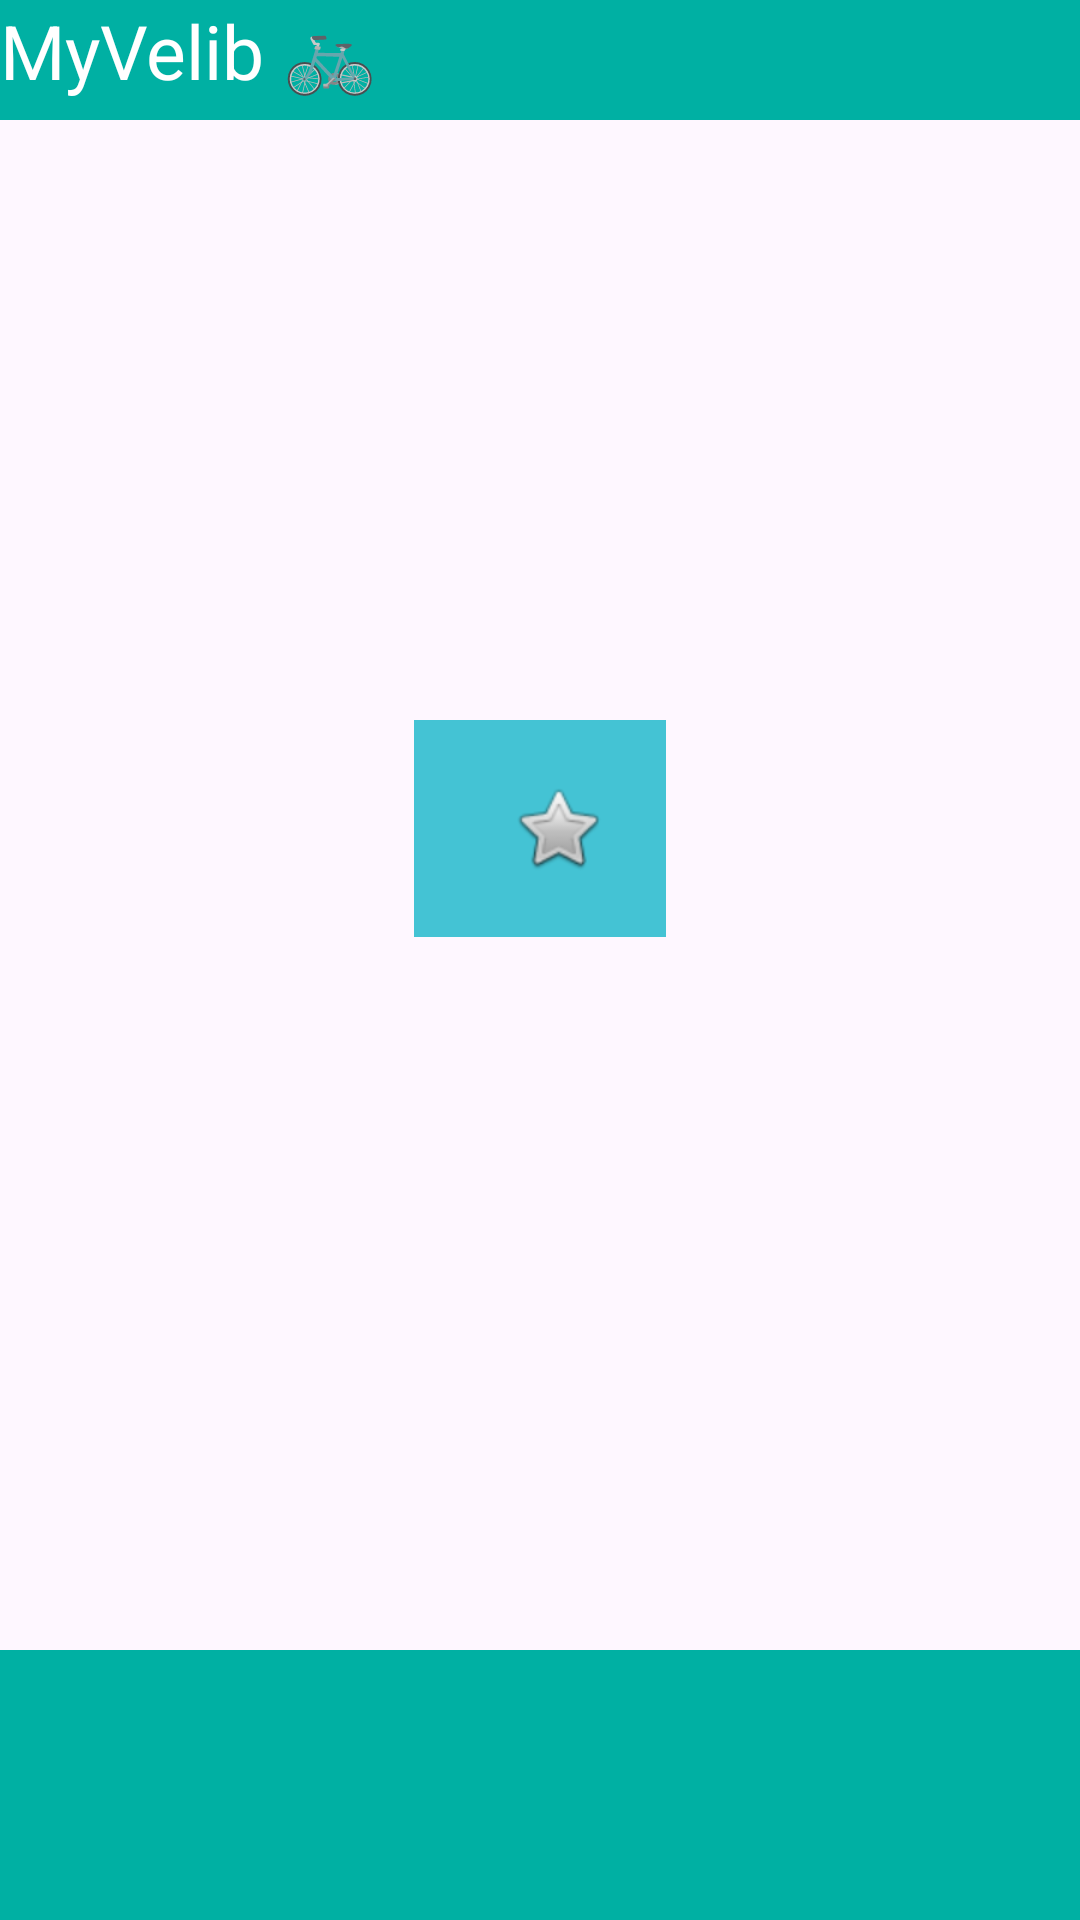

Named icons in this screenshot (1080w x 1920h) and their centers, [x,y]:
Favori: [559,829]
